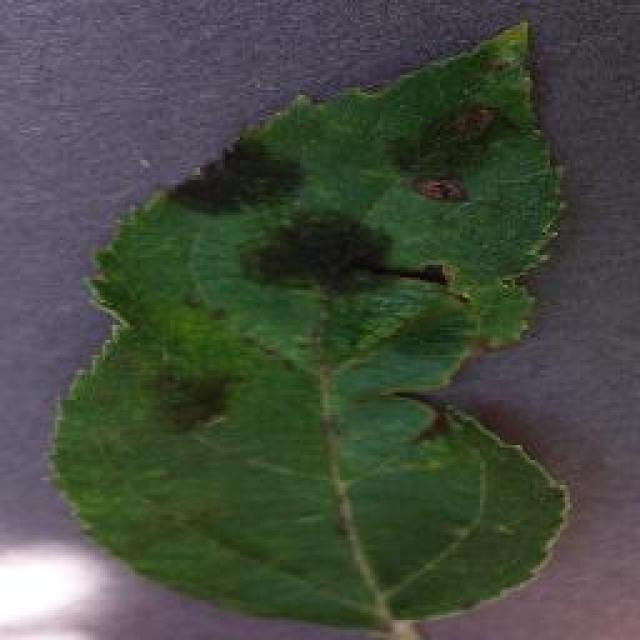apple scab disease: (45, 15, 575, 637)
